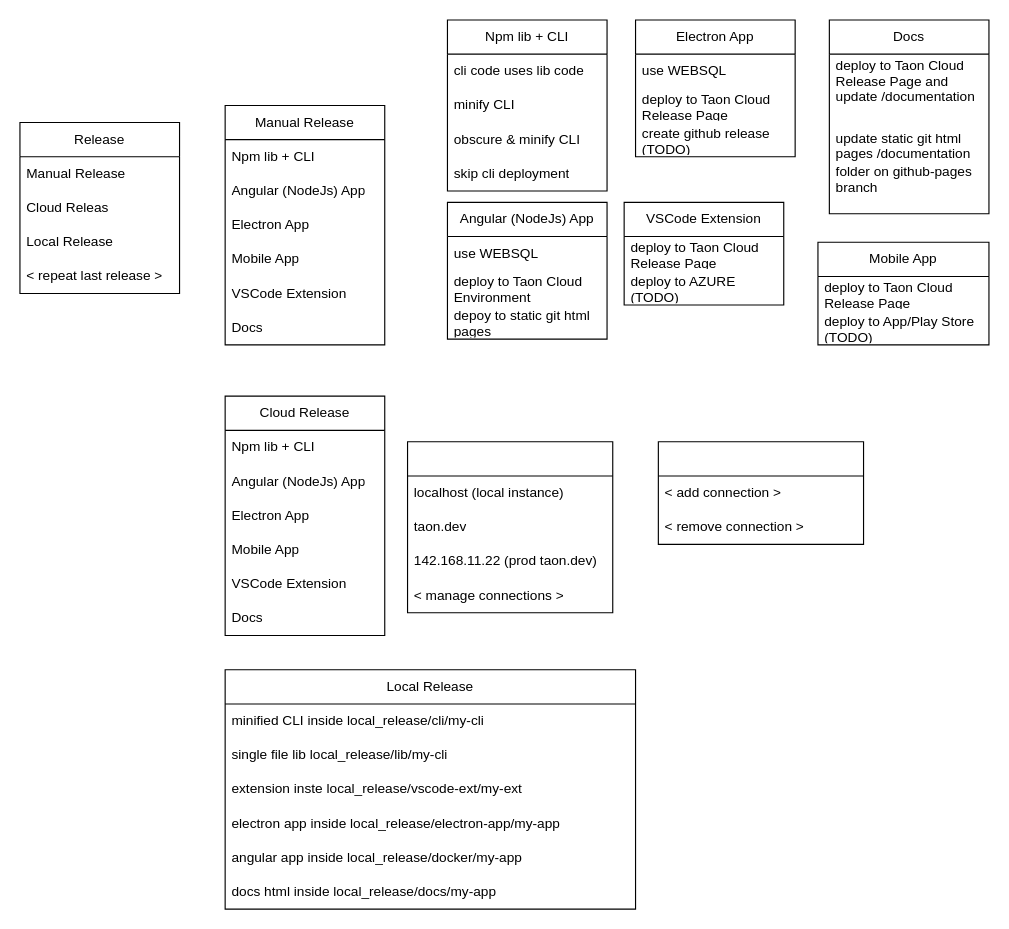
Image size: 1009x929. Some labels were removed from this diagram. Here are the shapes that lost their labels. From the top down, the box of each, then its label:
(657, 441, 864, 544): Manage Connection
(406, 441, 613, 613): Select Cloud
